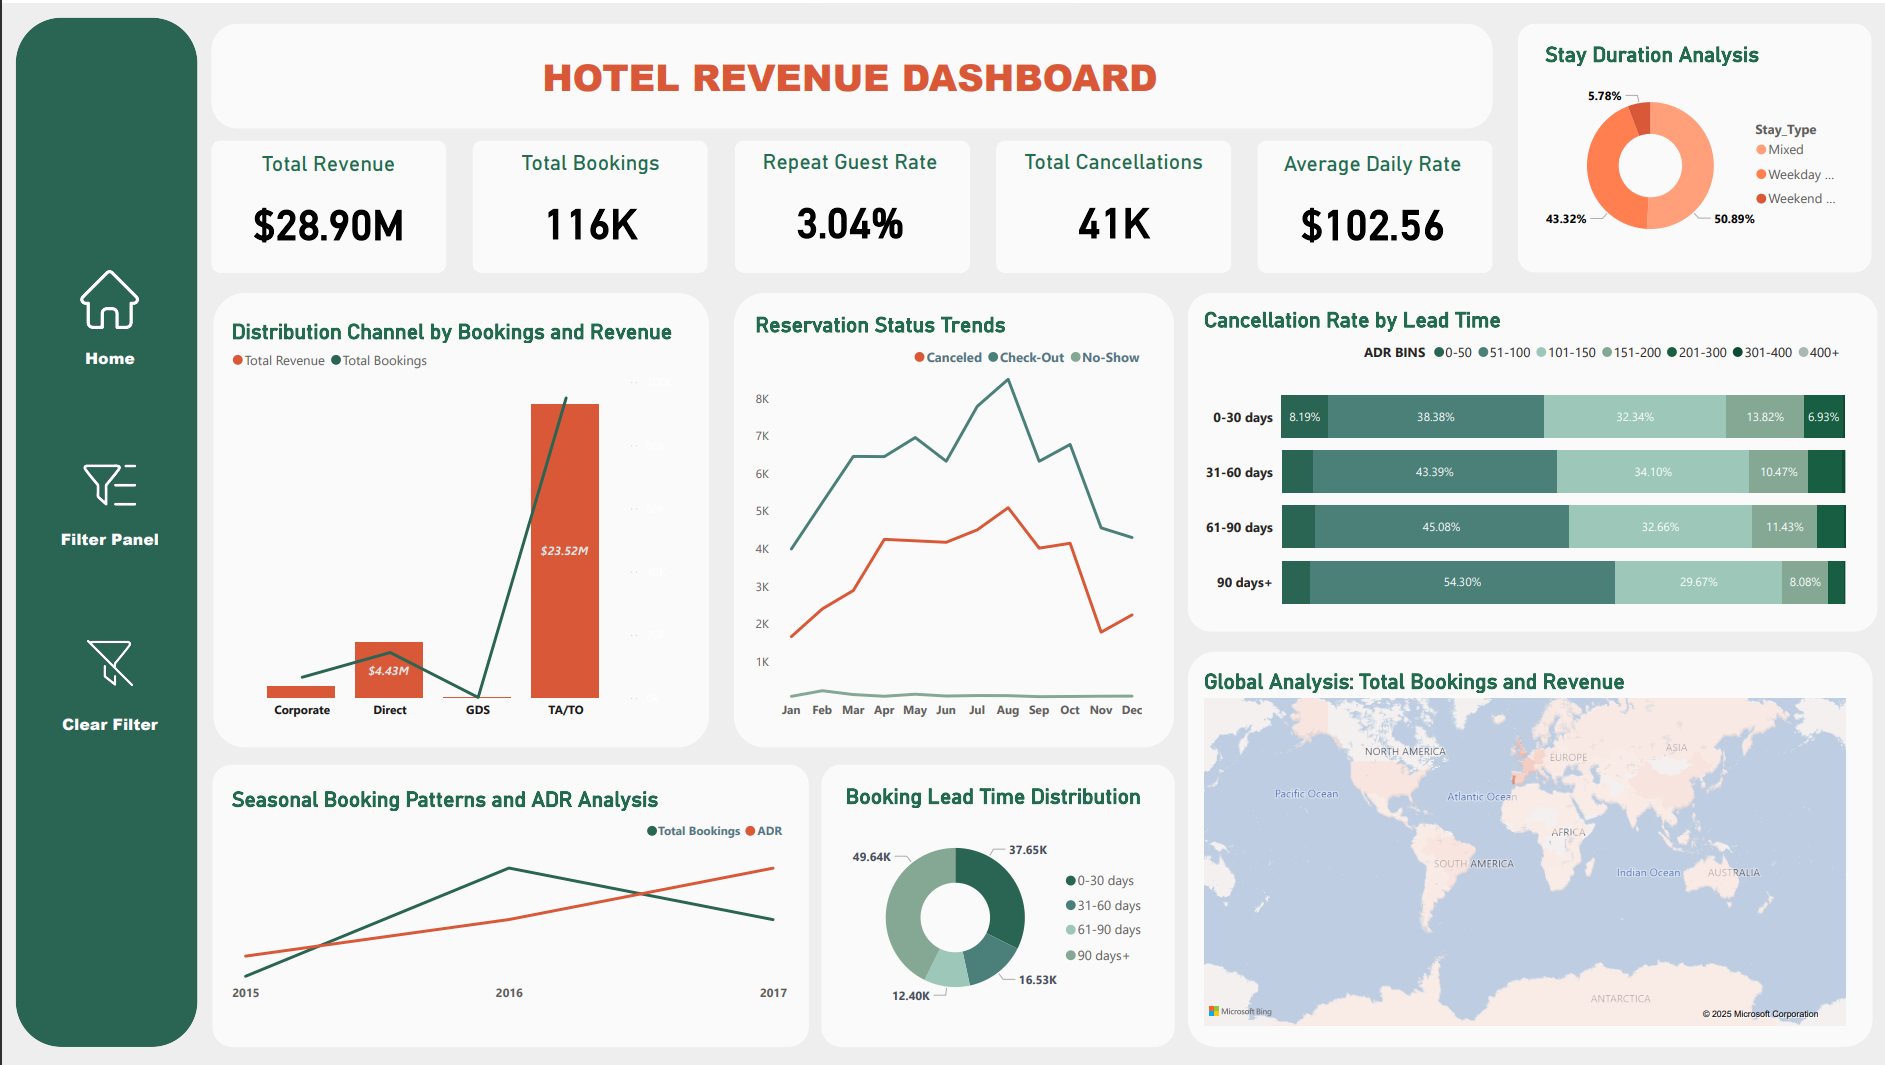

The dashboard page shown, as its layout file describes it:
{"tool":"powerbi","page":{"name":"Overview","canvas":[1920,1080],"ordinal":0},"visuals":[{"type":"shape","box":[1279.1,140.1,239.5,134.9],"z":0},{"type":"textbox","box":[65.9,343.2,90,40],"z":0,"group":"g1"},{"type":"textbox","box":[42,529.2,137.8,40],"z":0,"group":"g2"},{"type":"textbox","box":[40.9,717,140,40],"z":0,"group":"g6"},{"type":"shape","box":[214,140.1,239.5,134.9],"z":1000},{"type":"shape","box":[480.2,139.9,239.5,134.9],"z":2000},{"type":"shape","box":[746.5,140.1,239.5,134.9],"z":3000},{"type":"shape","box":[1012.8,139.9,239.5,134.9],"z":4000},{"type":"shape","box":[1544.2,20.9,360.5,253.5],"z":5000},{"type":"shape","box":[214,20.9,1304.7,107],"z":6000},{"type":"shape","box":[216,295.3,504.7,462.9],"z":7000},{"type":"shape","box":[215,775,607.5,287.5],"z":8000},{"type":"shape","box":[835,775,360,287.5],"z":9000},{"type":"shape","box":[15,15,185,1047.5],"z":10000},{"type":"cardVisual","title":"Total Revenue","fields":{"Data":["Sum(bookings cleaned.Total Revenue)"]},"box":[237.2,149.9,193,116.3],"z":11000},{"type":"cardVisual","title":"Total Bookings","fields":{"Data":["bookings cleaned.Total Bookings"]},"box":[490.6,149.9,209.4,114.6],"z":12000},{"type":"cardVisual","title":"Repeat Guest Rate","fields":{"Data":["bookings cleaned.Repeat Percentage"]},"box":[769.2,149.9,196.2,114.6],"z":13000},{"type":"donutChart","title":"Booking Lead Time Distribution","fields":{"Category":["bookings cleaned.Lead_Time_Range","bookings cleaned.market_segment"],"Y":["bookings cleaned.Total Bookings"]},"box":[855,795,320,250],"z":14000},{"type":"lineChart","title":"Seasonal Booking Patterns and ADR Analysis","fields":{"Y":["bookings cleaned.Total Bookings"],"Y2":["Avg(bookings cleaned.adr)"],"Category":["bookings cleaned.arrival_date.Variation.Date Hierarchy.Year","bookings cleaned.arrival_date.Variation.Date Hierarchy.Month"]},"box":[230,797.5,575,227.5],"z":15000},{"type":"donutChart","title":"Stay Duration Analysis","fields":{"Category":["bookings cleaned.Stay_Type"],"Y":["CountNonNull(bookings cleaned.stay duration)"]},"box":[1566.9,39.5,316.3,225.6],"z":16000},{"type":"cardVisual","title":"Total Cancellations","fields":{"Data":["bookings cleaned.Total Cancellations"]},"box":[1024.9,149.9,222.6,114.6],"z":17000},{"type":"cardVisual","title":"Average Daily Rate","fields":{"Data":["Avg(bookings cleaned.adr)"]},"box":[1300,149.9,193,116.3],"z":18000},{"type":"lineStackedColumnComboChart","title":"Distribution Channel by Bookings and Revenue","fields":{"Y2":["bookings cleaned.Total Bookings"],"Y":["Sum(bookings cleaned.Total Revenue)"],"Category":["bookings cleaned.distribution_channel","bookings cleaned.market_segment"]},"box":[235.8,321.8,460.7,416.6],"z":19000},{"type":"group","id":"g1","title":"Group 2","box":[65.9,343.2,90,40],"z":19000,"group":"g5"},{"type":"group","id":"g2","title":"Group 1","box":[42,529.2,137.8,40],"z":19000,"group":"g4"},{"type":"textbox","title":"HOTEL REVENUE DASHBOARD","box":[532.6,48.8,662.8,60.5],"z":20000},{"type":"image","box":[75.3,266.7,71.1,68.9],"z":20000,"group":"g5"},{"type":"shape","box":[1207.5,295,702.5,345],"z":21000},{"type":"image","box":[70.9,451,80,80],"z":22000,"group":"g4"},{"type":"image","box":[75.9,637,70,70],"z":22000,"group":"g3"},{"type":"shape","box":[1207.5,660,697.5,402.5],"z":22000},{"type":"shape","box":[740.4,295.3,447.4,462.9],"z":23000},{"type":"lineChart","title":"Reservation Status Trends","fields":{"Category":["bookings cleaned.ShortMonthName"],"Series":["bookings cleaned.reservation_status"],"Y":["CountNonNull(bookings cleaned.reservation_status)"]},"box":[762.6,315.2,407.8,423.2],"z":24000},{"type":"filledMap","title":"Global Analysis: Total Bookings and Revenue","fields":{"Category":["bookings cleaned.country"]},"box":[1220,677.5,662.5,367.5],"z":25000},{"type":"hundredPercentStackedBarChart","title":"Cancellation Rate by Lead Time","fields":{"Category":["bookings cleaned.Lead_Time_Range"],"Y":["Divide(Sum(bookings cleaned.Cancellation Rate (%)), ScopedEval(Sum(bookings cleaned.Cancellation Rate (%)), []))"],"Series":["bookings cleaned.ADR_Bins"]},"box":[1220,310,662.5,330],"z":26000},{"type":"group","id":"g3","title":"Group 5","box":[40.9,637,140,120],"z":28000},{"type":"group","id":"g4","title":"Group 6","box":[42,451,137.8,118.2],"z":29000},{"type":"group","id":"g5","title":"Group 7","box":[65.9,266.7,90,116.5],"z":30000},{"type":"group","id":"g6","title":"Group 3","box":[40.9,717,140,40],"z":35000,"group":"g3"}]}

Visuals, with their boxes on the page's 1920x1080 design canvas (x1, y1, x2, y2). These are canvas units, not pixel positions in the 1885x1065 screenshot, which may show the page scaled, cropped or inside an application window:
shape: bbox=[1279, 140, 1519, 275]
textbox: bbox=[66, 343, 156, 383]
textbox: bbox=[42, 529, 180, 569]
textbox: bbox=[41, 717, 181, 757]
shape: bbox=[214, 140, 454, 275]
shape: bbox=[480, 140, 720, 275]
shape: bbox=[746, 140, 986, 275]
shape: bbox=[1013, 140, 1252, 275]
shape: bbox=[1544, 21, 1905, 274]
shape: bbox=[214, 21, 1519, 128]
shape: bbox=[216, 295, 721, 758]
shape: bbox=[215, 775, 822, 1062]
shape: bbox=[835, 775, 1195, 1062]
shape: bbox=[15, 15, 200, 1062]
"Total Revenue" cardVisual: bbox=[237, 150, 430, 266]
"Total Bookings" cardVisual: bbox=[491, 150, 700, 264]
"Repeat Guest Rate" cardVisual: bbox=[769, 150, 965, 264]
"Booking Lead Time Distribution" donutChart: bbox=[855, 795, 1175, 1045]
"Seasonal Booking Patterns and ADR Analysis" lineChart: bbox=[230, 798, 805, 1025]
"Stay Duration Analysis" donutChart: bbox=[1567, 40, 1883, 265]
"Total Cancellations" cardVisual: bbox=[1025, 150, 1248, 264]
"Average Daily Rate" cardVisual: bbox=[1300, 150, 1493, 266]
"Distribution Channel by Bookings and Revenue" lineStackedColumnComboChart: bbox=[236, 322, 696, 738]
"Group 2" group: bbox=[66, 343, 156, 383]
"Group 1" group: bbox=[42, 529, 180, 569]
"HOTEL REVENUE DASHBOARD" textbox: bbox=[533, 49, 1195, 109]
image: bbox=[75, 267, 146, 336]
shape: bbox=[1208, 295, 1910, 640]
image: bbox=[71, 451, 151, 531]
image: bbox=[76, 637, 146, 707]
shape: bbox=[1208, 660, 1905, 1062]
shape: bbox=[740, 295, 1188, 758]
"Reservation Status Trends" lineChart: bbox=[763, 315, 1170, 738]
"Global Analysis: Total Bookings and Revenue" filledMap: bbox=[1220, 678, 1882, 1045]
"Cancellation Rate by Lead Time" hundredPercentStackedBarChart: bbox=[1220, 310, 1882, 640]
"Group 5" group: bbox=[41, 637, 181, 757]
"Group 6" group: bbox=[42, 451, 180, 569]
"Group 7" group: bbox=[66, 267, 156, 383]
"Group 3" group: bbox=[41, 717, 181, 757]
